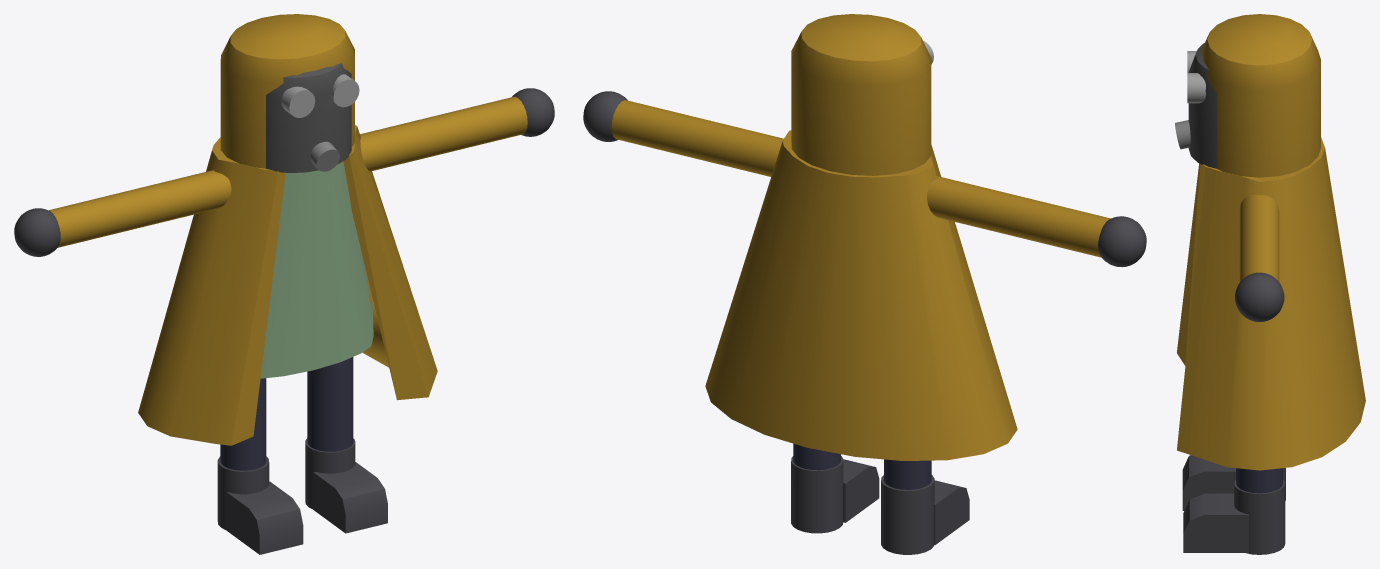
Rendered from HazmatGoonV2.fbx.
The picture shows the model from 3 angles, left to right: view 1: azimuth 30°, elevation 25°; view 2: azimuth 150°, elevation 25°; view 3: azimuth 270°, elevation 25°; orthographic projection. The views are drawn at different scales.
Visible parts, largest first — view 1: group_pasted__pCylinder3; view 2: group_pasted__pCylinder3; view 3: group_pasted__pCylinder3.
Part boxes in pixels (x1,y1,x2,y2): group_pasted__pCylinder3: (14, 14, 554, 554); group_pasted__pCylinder3: (583, 14, 1146, 554); group_pasted__pCylinder3: (1175, 14, 1365, 554).
Size of the model in its own units: 5.19 by 4.49 by 1.58.
